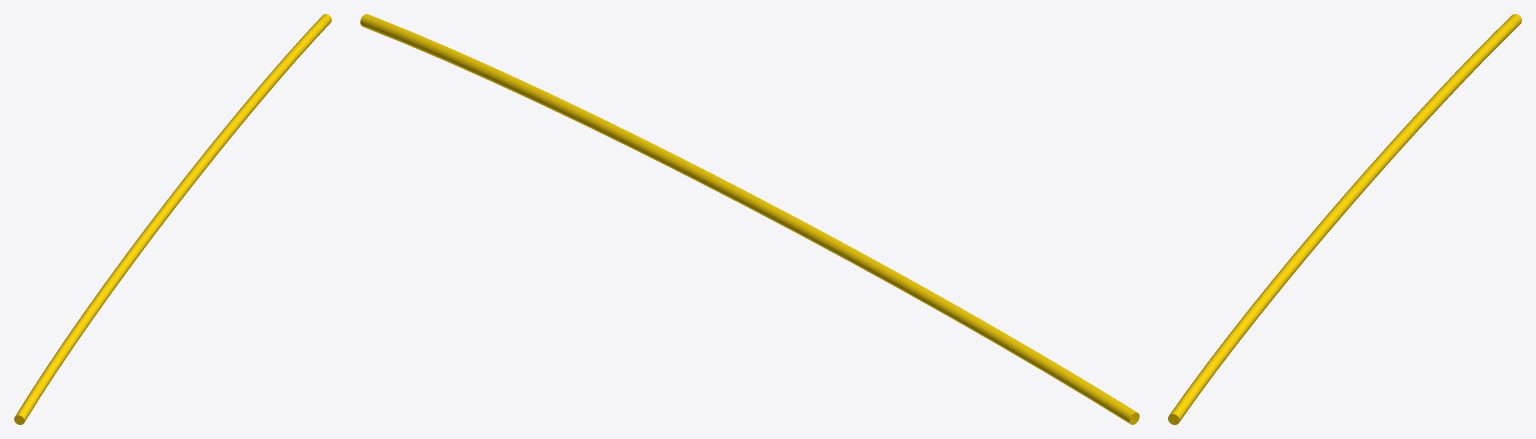
Rendered from Event_421115418_track_200.fbx.
3 renders of one model, left to right at view 1: azimuth 90°, elevation 25°; view 2: azimuth 150°, elevation 25°; view 3: azimuth 270°, elevation 25°, orthographic. The views are drawn at different scales.
Parts seen in each view (by area): view 1: Model; view 2: Model; view 3: Model.
Boxes of the visible parts, x1,y1,x2,y2 form: Model: (14, 14, 331, 424); Model: (360, 14, 1139, 424); Model: (1168, 14, 1521, 424).
Size of the model in its own units: 3.25 by 0.1544 by 1.15.
